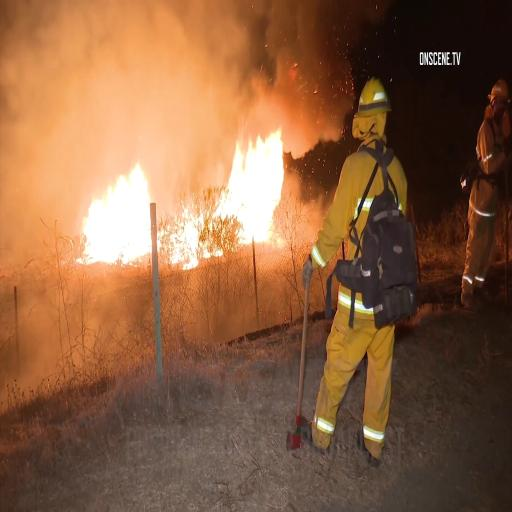fire: (218, 125, 286, 253), (78, 156, 156, 266)
